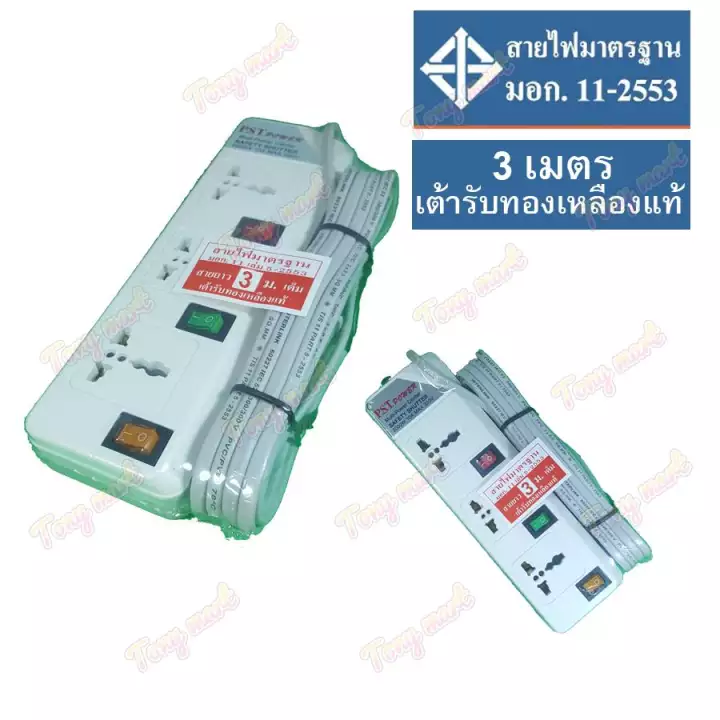Three_eye_plug: (18, 106, 405, 539), (360, 342, 658, 643)
